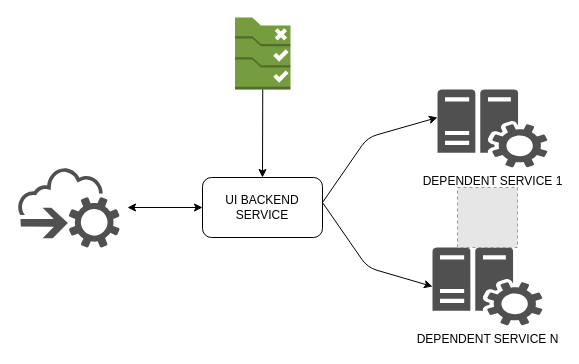
This 579x364 diagram has some shape labels left out. Grey dashed boxes stand in for pictures. The shapes that lost their labels are listed below. From the top down, each one's box as (x1, y1, x2, y2) in pixels, then its label:
(234, 16, 290, 90): CONFIG FOR OTHER SERVICES
(17, 167, 119, 247): REQUEST
